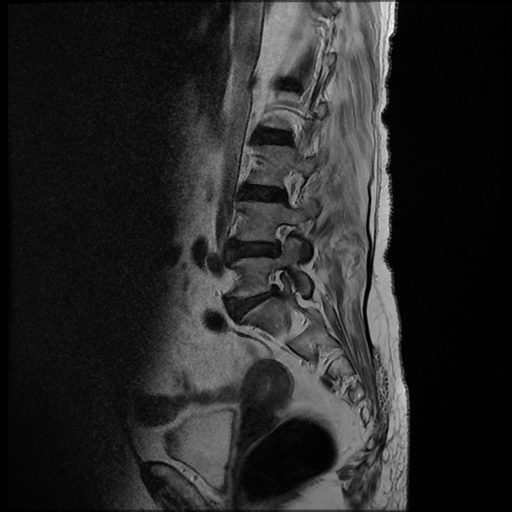RFS0: (259, 264, 299, 302), (263, 218, 297, 259)
